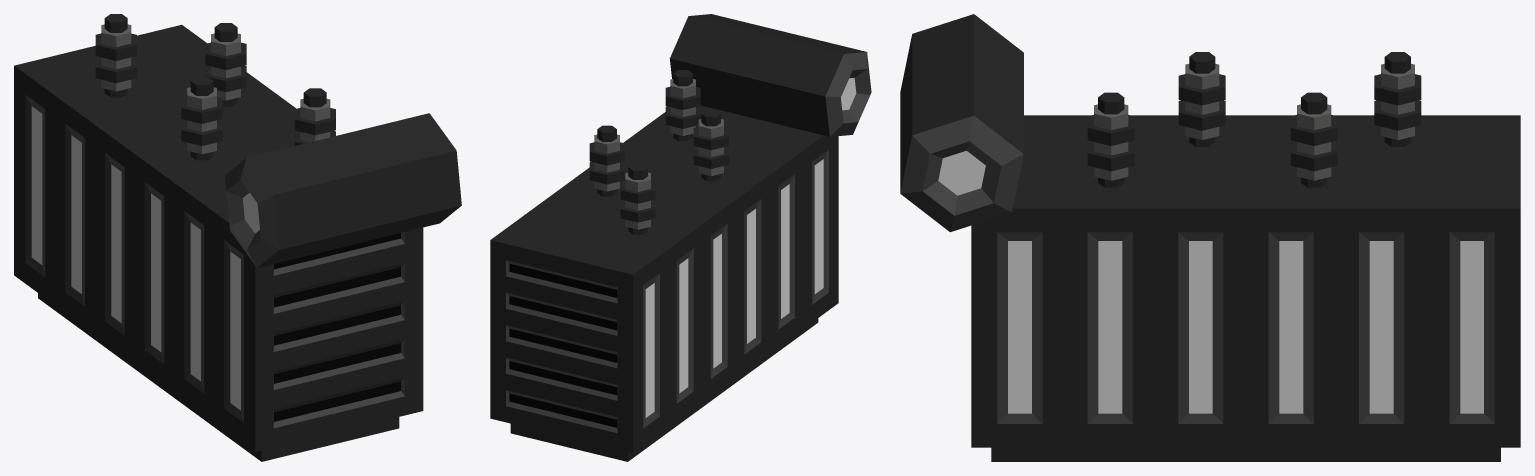
Rendered from PowerTransformer.fbx.
3 views of the same model, side by side, from view 1: azimuth 30°, elevation 25°; view 2: azimuth 150°, elevation 25°; view 3: azimuth 270°, elevation 25° (orthographic). The views are drawn at different scales.
Visible parts, largest first — view 1: Transformer; view 2: Transformer; view 3: Transformer.
Boxes of the visible parts, x1=… form: Transformer: x1=14, y1=14, x2=461, y2=461; Transformer: x1=490, y1=14, x2=871, y2=461; Transformer: x1=900, y1=14, x2=1520, y2=461.
Bounding box in the file's own units: 24.01 × 36.26 × 56.8.
